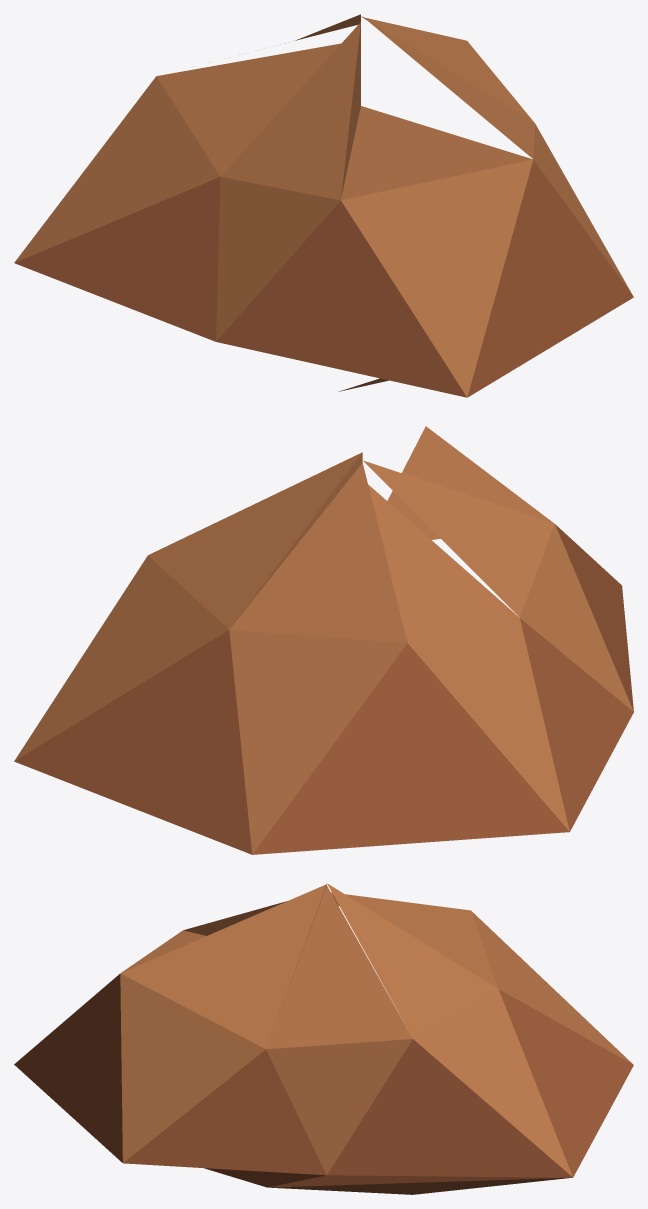
Rendered from sandstone_rock.glb.
The picture shows the model from 3 angles, top to bottom: view 1: azimuth 30°, elevation 25°; view 2: azimuth 150°, elevation 25°; view 3: azimuth 270°, elevation 25°; orthographic projection. The views are drawn at different scales.
Visible parts, largest first — view 1: sandstone_rock2; view 2: sandstone_rock2; view 3: sandstone_rock2.
Part boxes in pixels (<box>): sandstone_rock2: <box>14,14,633,397</box>; sandstone_rock2: <box>14,426,633,854</box>; sandstone_rock2: <box>14,883,633,1194</box>.
Bounding box in the file's own units: 0.9669 × 0.55 × 1.26.
